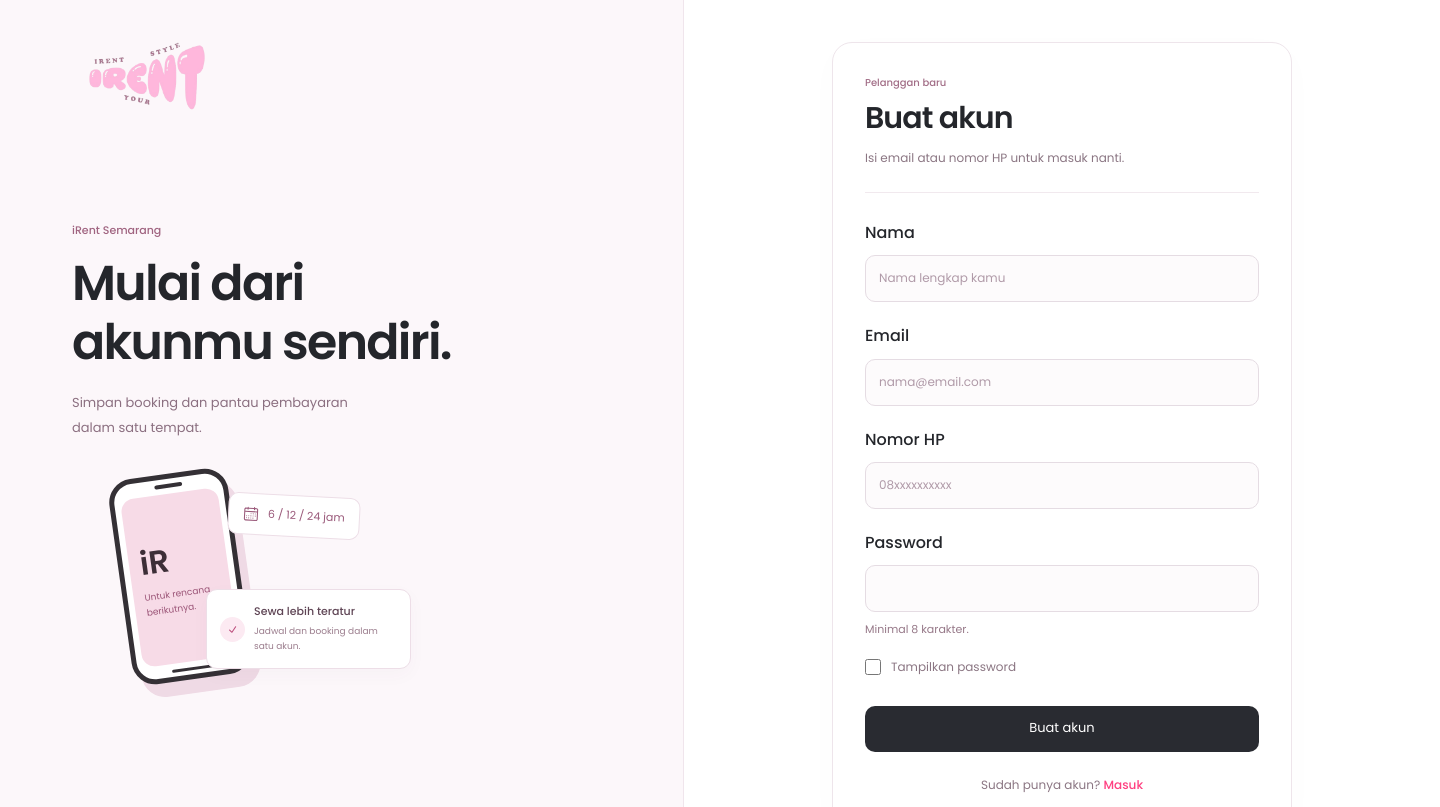
Scenario: registers a customer with email and opens their account without storing credentials
In the field labelled "Nama": (1062, 279) x1=865 y1=255 x2=1259 y2=302, type "Penyewa Baru"
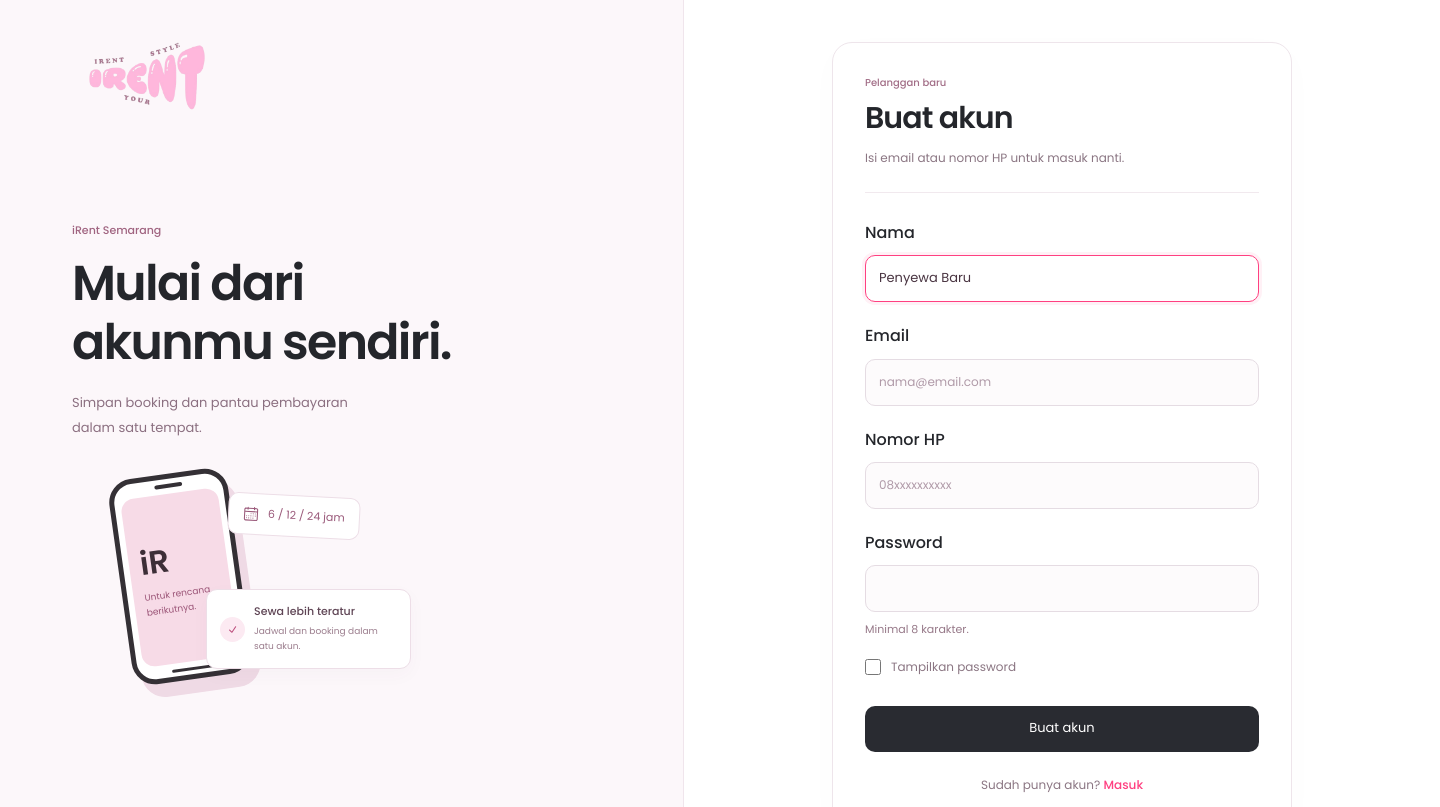
In the field labelled "Email": (1062, 382) x1=865 y1=359 x2=1259 y2=406, type "baru@example.test"
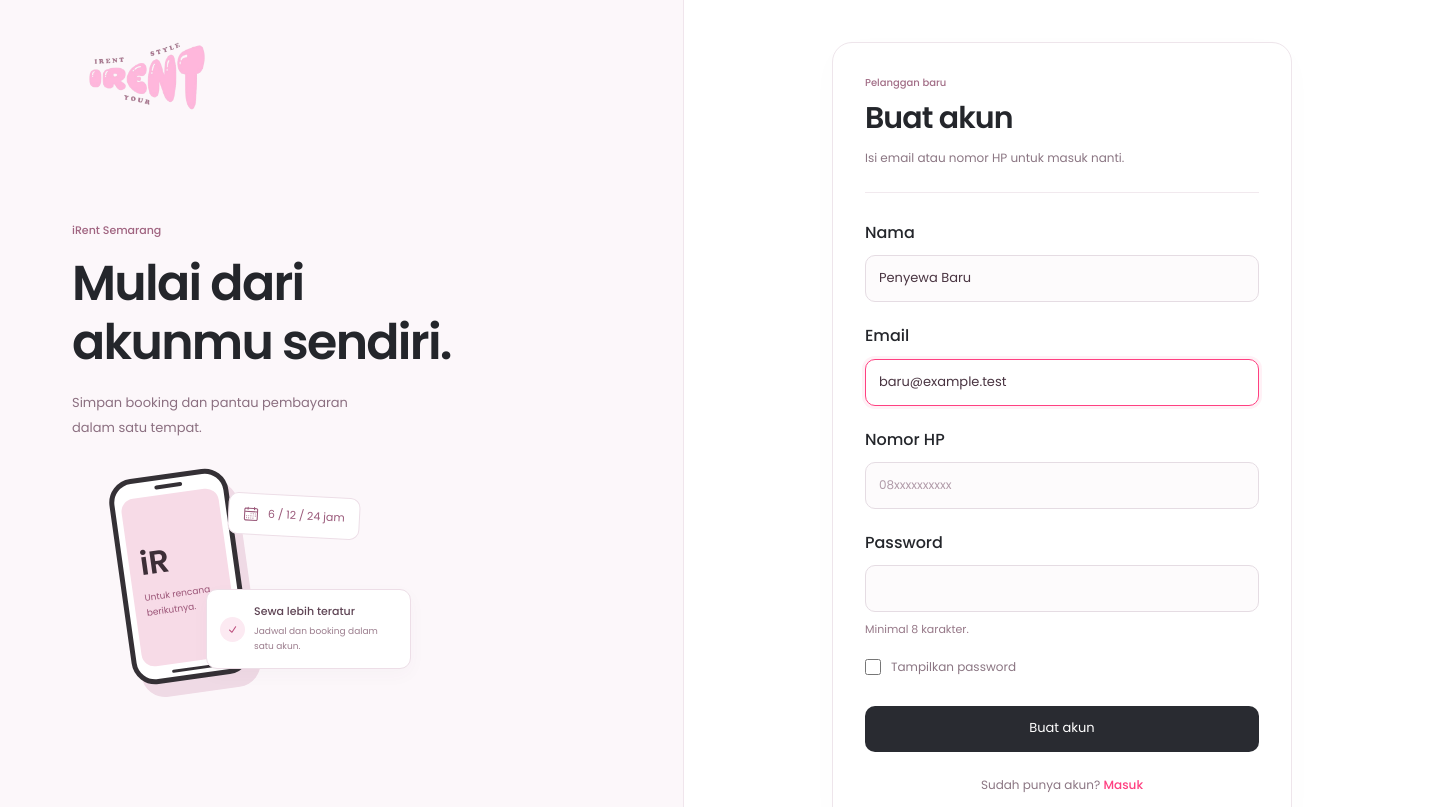
In the password field labelled "Password": (1062, 589) x1=865 y1=565 x2=1259 y2=612, type "abcdefgh"
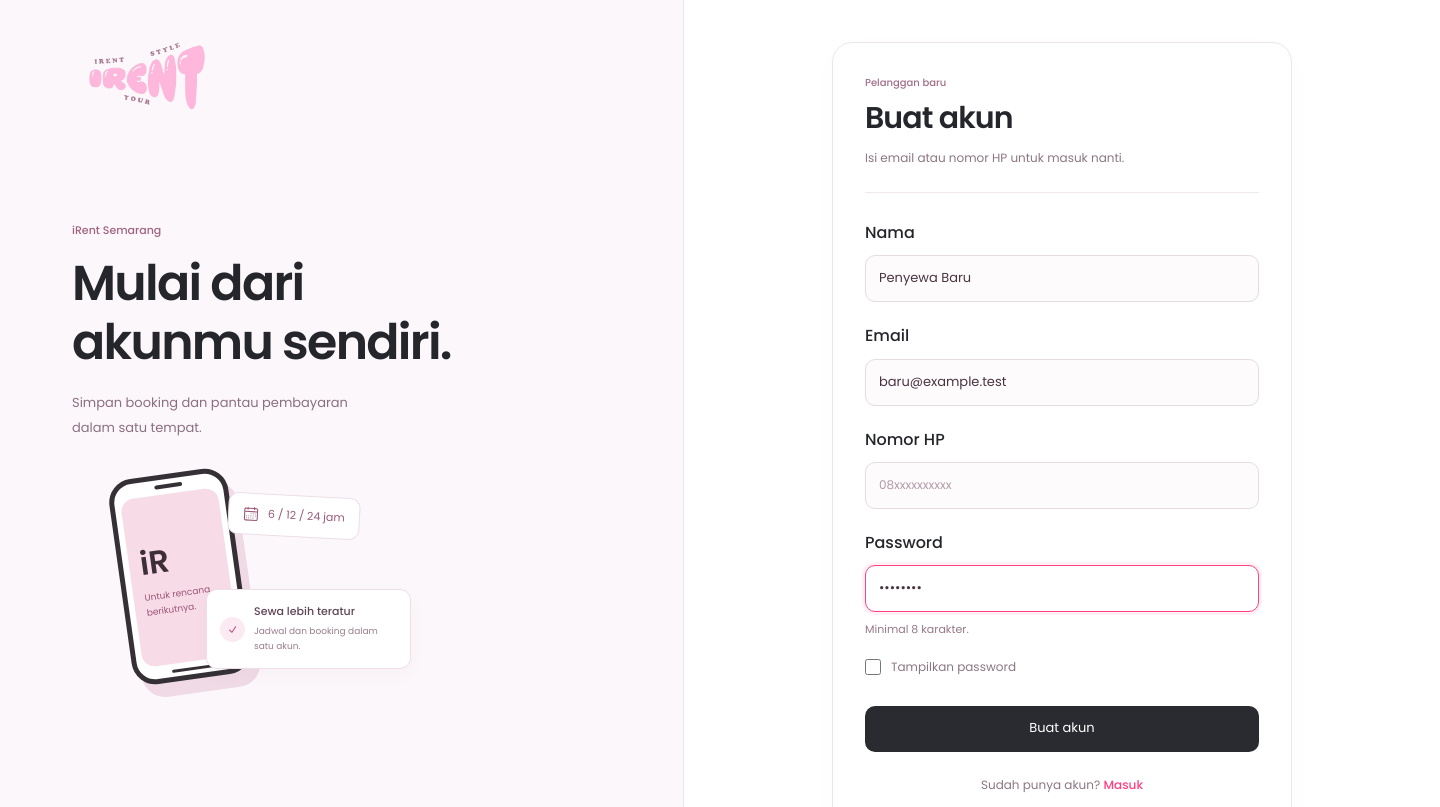
Click the button "Buat akun": (1062, 728) x1=865 y1=706 x2=1259 y2=752
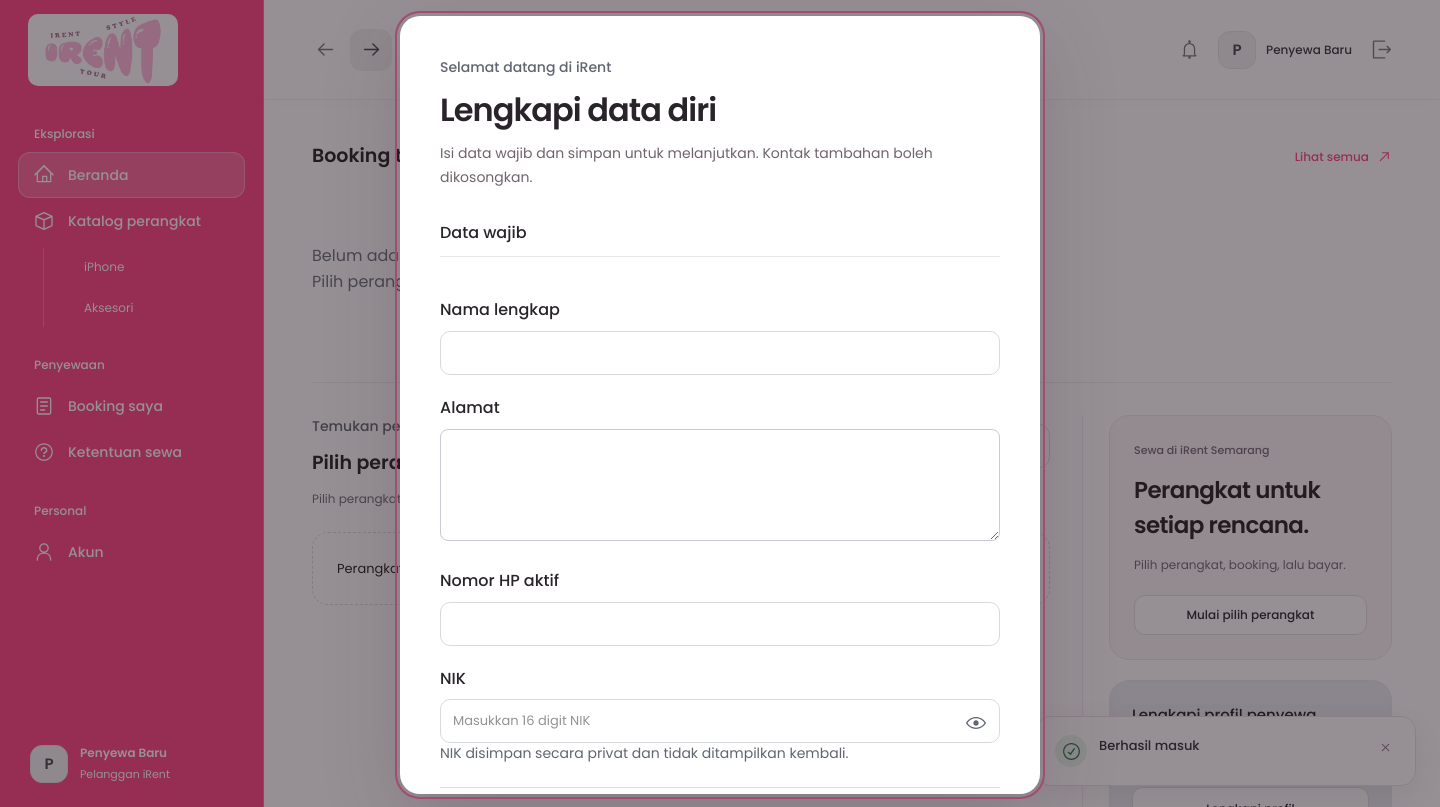
Check: the heading "Pilih perangkat" is shown, box x1=312 y1=450 x2=480 y2=476
